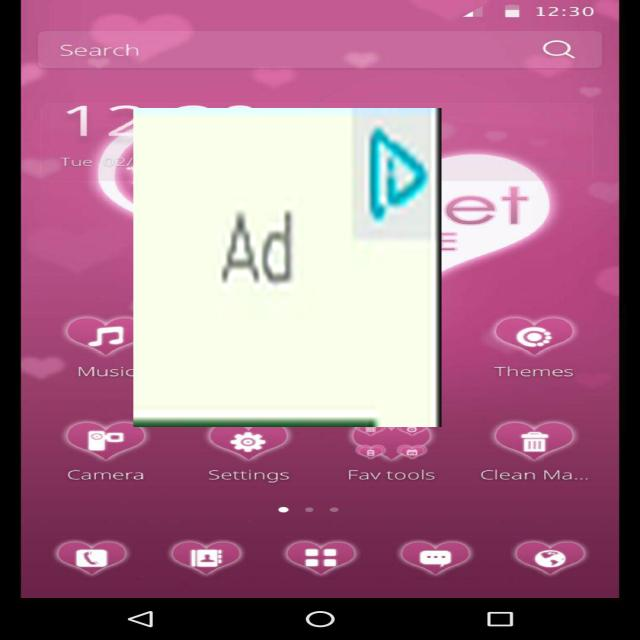sneaking: (134, 108, 442, 427)
